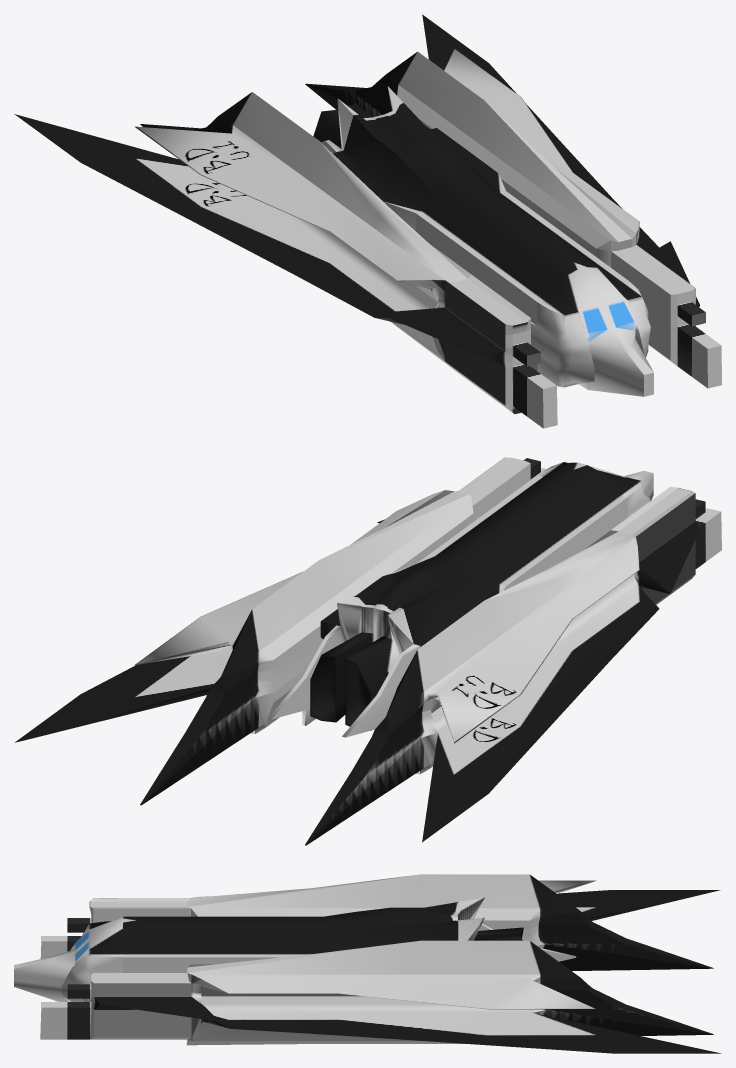
The model's file is dog large.obj.
3 views of the same model, one above another, from view 1: azimuth 30°, elevation 25°; view 2: azimuth 150°, elevation 25°; view 3: azimuth 270°, elevation 25° (orthographic). The views are drawn at different scales.
Visible parts, largest first — view 1: missle_ship:large_ship; view 2: missle_ship:large_ship; view 3: missle_ship:large_ship.
Part boxes in pixels (left/top/right/bottom): missle_ship:large_ship: left=14, top=14, right=721, bottom=428; missle_ship:large_ship: left=14, top=457, right=721, bottom=845; missle_ship:large_ship: left=14, top=874, right=721, bottom=1053.
Size of the model in its own units: 58.78 by 17.13 by 107.
